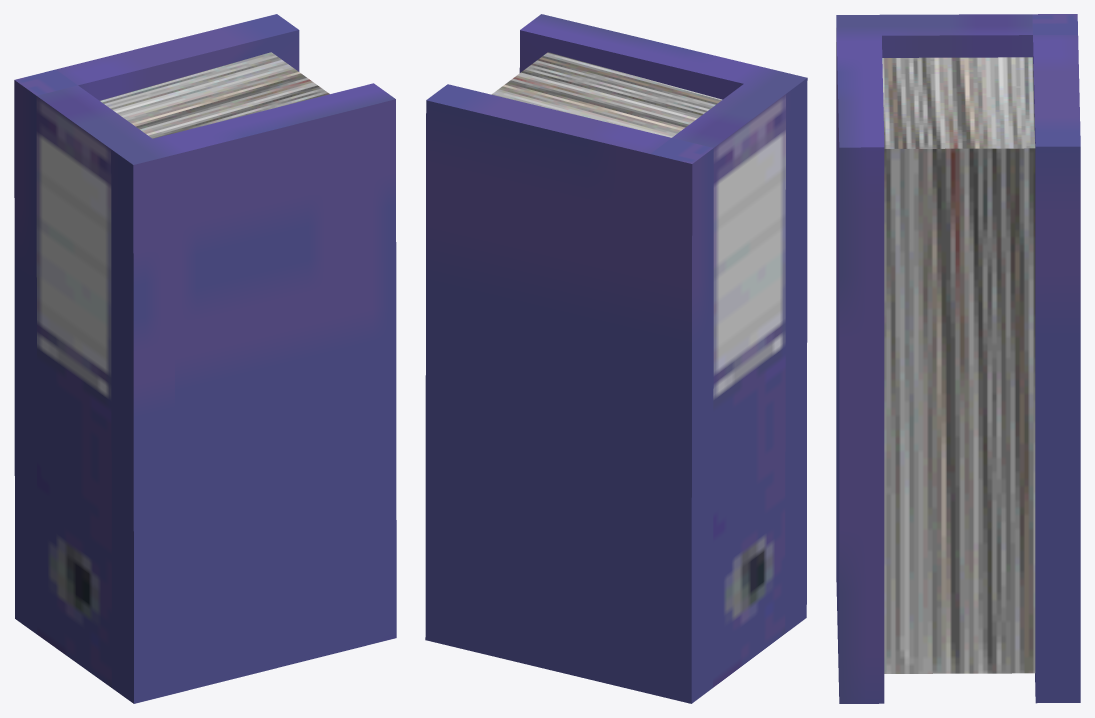
File: object_20_lev1.glb
The picture shows the model from 3 angles, left to right: view 1: azimuth 30°, elevation 25°; view 2: azimuth 150°, elevation 25°; view 3: azimuth 270°, elevation 25°; orthographic projection. The views are drawn at different scales.
Visible parts, largest first — view 1: object_20_lev1; view 2: object_20_lev1; view 3: object_20_lev1.
Boxes of the visible parts, <box> form: object_20_lev1: <box>14,14,396,703</box>; object_20_lev1: <box>425,14,807,703</box>; object_20_lev1: <box>836,14,1080,703</box>.
Bounding box in the file's own units: 0.2216 × 0.4281 × 0.1706.
Materials: 1 (1 with a texture image).
